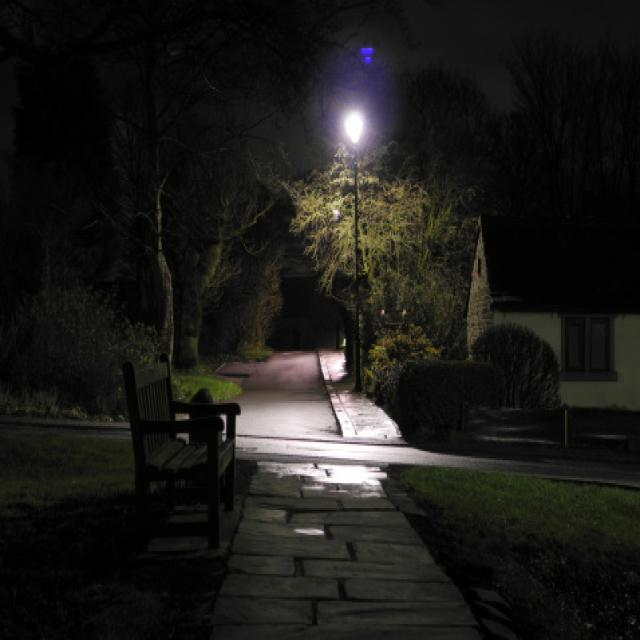chair: (112, 320, 261, 569)
